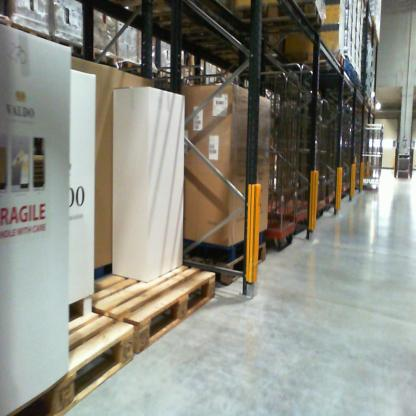pallet: (85, 239, 233, 356), (12, 298, 149, 413), (183, 235, 269, 298), (198, 3, 345, 25), (280, 50, 346, 72), (89, 41, 121, 71), (125, 56, 154, 81), (56, 41, 89, 57)
